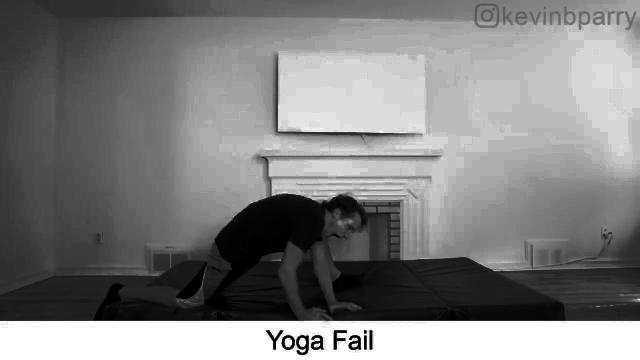jatuh: (96, 194, 370, 322)
